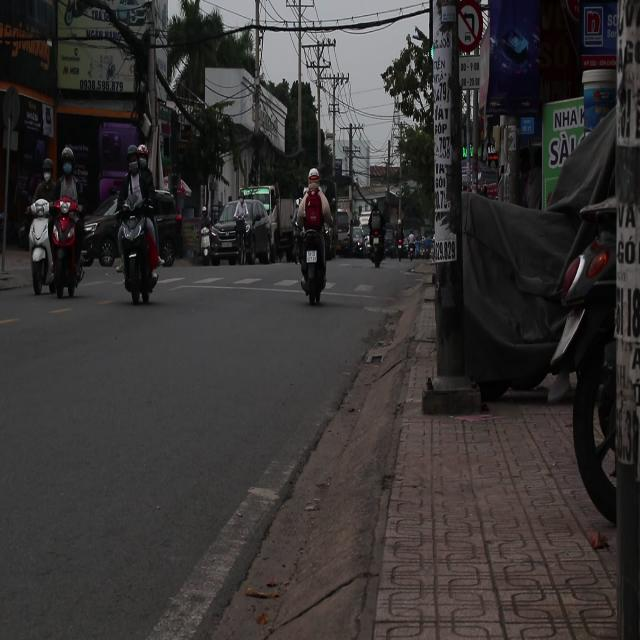car: (208, 200, 264, 264), (351, 226, 364, 254)
motorbike: (118, 200, 162, 305), (47, 203, 89, 299), (303, 226, 327, 313)
truck: (236, 186, 281, 262)
